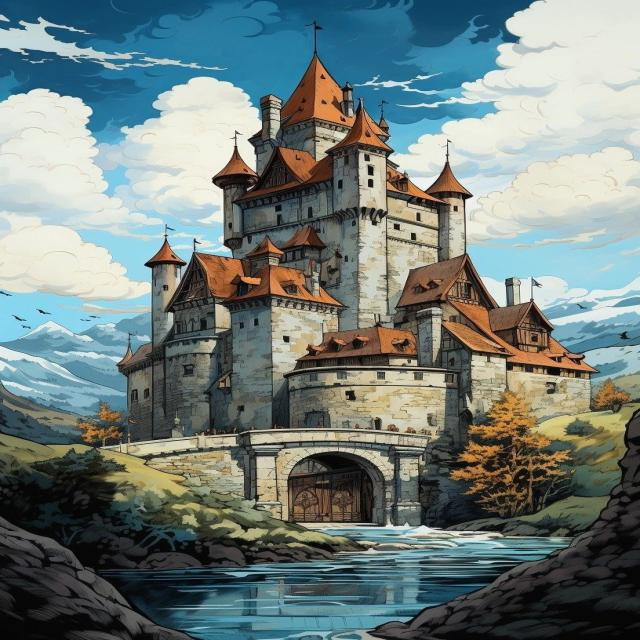castle: (120, 58, 595, 452)
